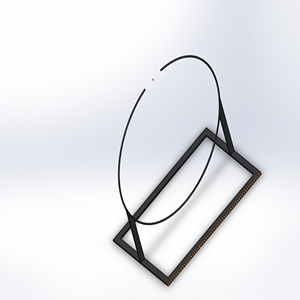circle: (108, 52, 263, 286)
